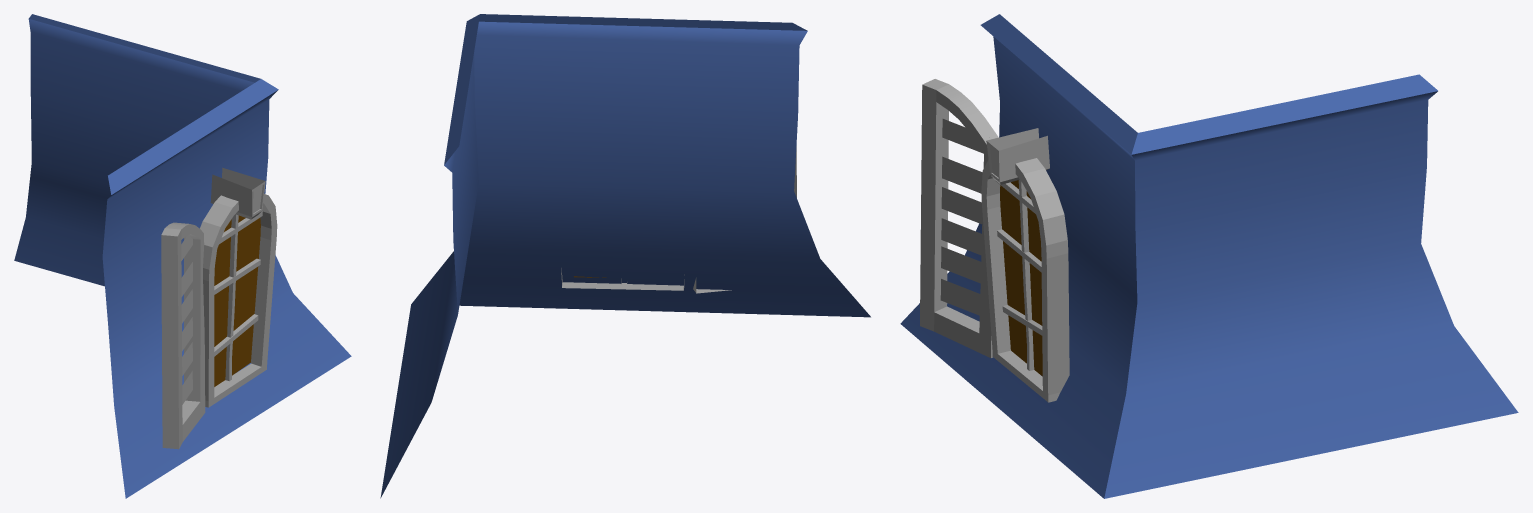
The model's file is top of house trial.fbx.
3 views of the same model, side by side, from view 1: azimuth 30°, elevation 25°; view 2: azimuth 150°, elevation 25°; view 3: azimuth 270°, elevation 25° (orthographic). The views are drawn at different scales.
Visible parts, largest first — view 1: pCube4, polySurface114, pPlane7; view 2: pCube4, polySurface114; view 3: pCube4, polySurface114, pPlane7.
Boxes of the visible parts, <box> form: pCube4: <box>14,14,351,498</box>; polySurface114: <box>200,167,277,407</box>; pPlane7: <box>161,222,205,449</box>; pCube4: <box>380,14,870,498</box>; polySurface114: <box>561,268,684,290</box>; pCube4: <box>900,14,1518,498</box>; polySurface114: <box>981,128,1069,402</box>; pPlane7: <box>920,79,998,357</box>.
Size of the model in its own units: 3.35 by 2.89 by 5.
